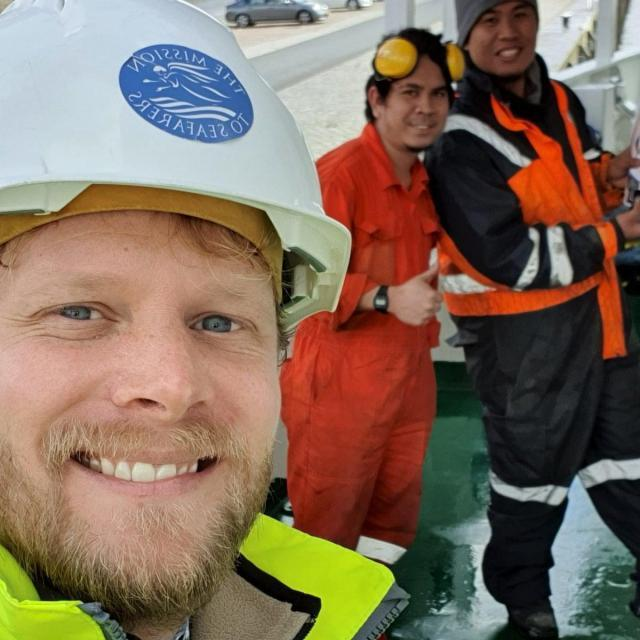hat: (1, 0, 350, 330), (222, 0, 332, 26)
